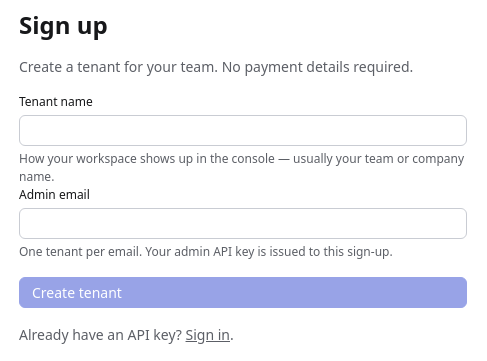
Test case: W8 signup flow: key shown once, copy-and-confirm › never mentions credits or trials before phase 5 (§9.6)
This screenshot has width=487, height=361.
Step 1. Type "Acme Corp" into the field labelled "Tenant name" → (243, 131), box [19,115,467,146]
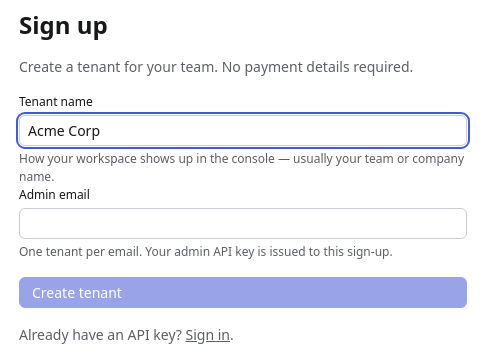
Step 2. Type "admin@acme.test" into the field labelled "Admin email" → (243, 224), box [19,208,467,239]
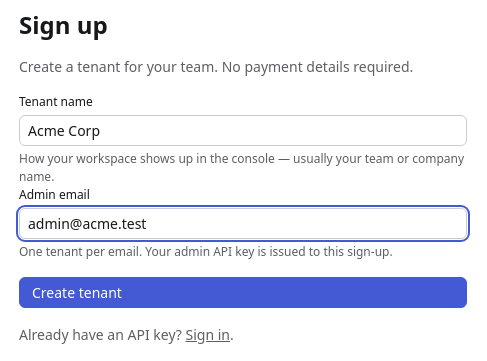
Step 3. Click the button "Create tenant" → (77, 293), box [19,277,467,308]
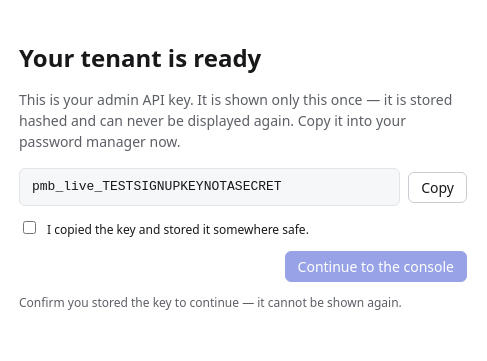
Check: the text "pmb_live_TESTSIGNUPKEYNOTASECRET" is shown, box [19,168,400,206]
